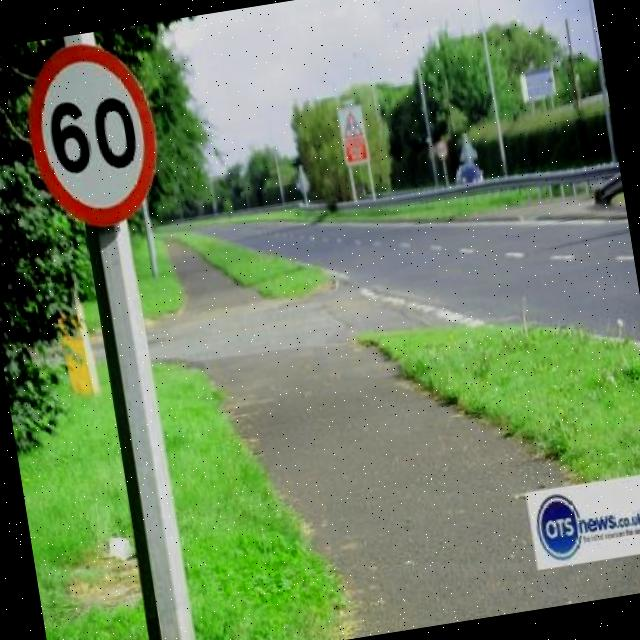Ograniczenie predkosci do 60: (15, 28, 174, 250)
